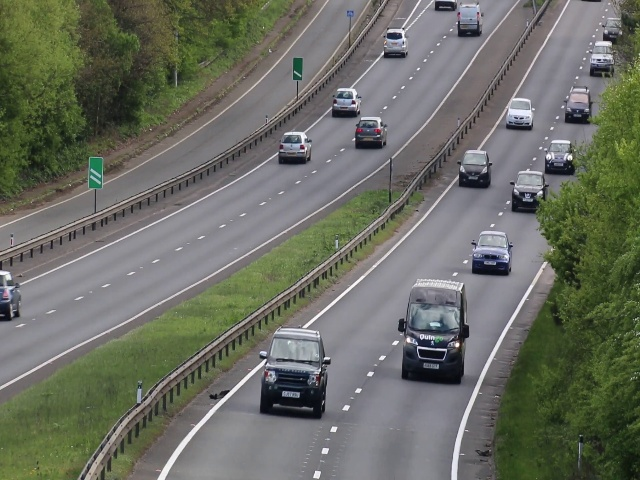car: (398, 284, 467, 385), (261, 330, 330, 419), (471, 230, 513, 275), (458, 147, 492, 190), (511, 167, 542, 214), (275, 130, 313, 163), (353, 113, 386, 149), (564, 85, 593, 124), (544, 138, 575, 174), (1, 270, 23, 320), (504, 98, 537, 130), (455, 4, 485, 37), (382, 27, 411, 58), (330, 88, 361, 117), (590, 39, 613, 78)
